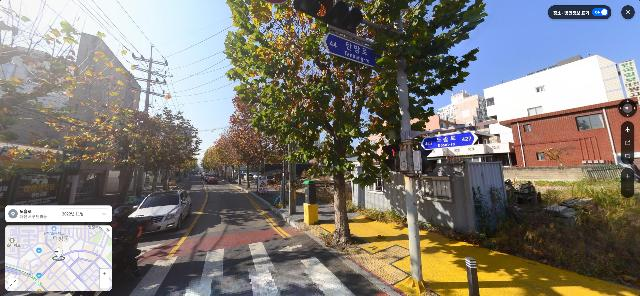other: (226, 0, 495, 249), (0, 0, 143, 168), (83, 95, 171, 202), (148, 106, 202, 191), (221, 96, 268, 193), (220, 129, 241, 184)
